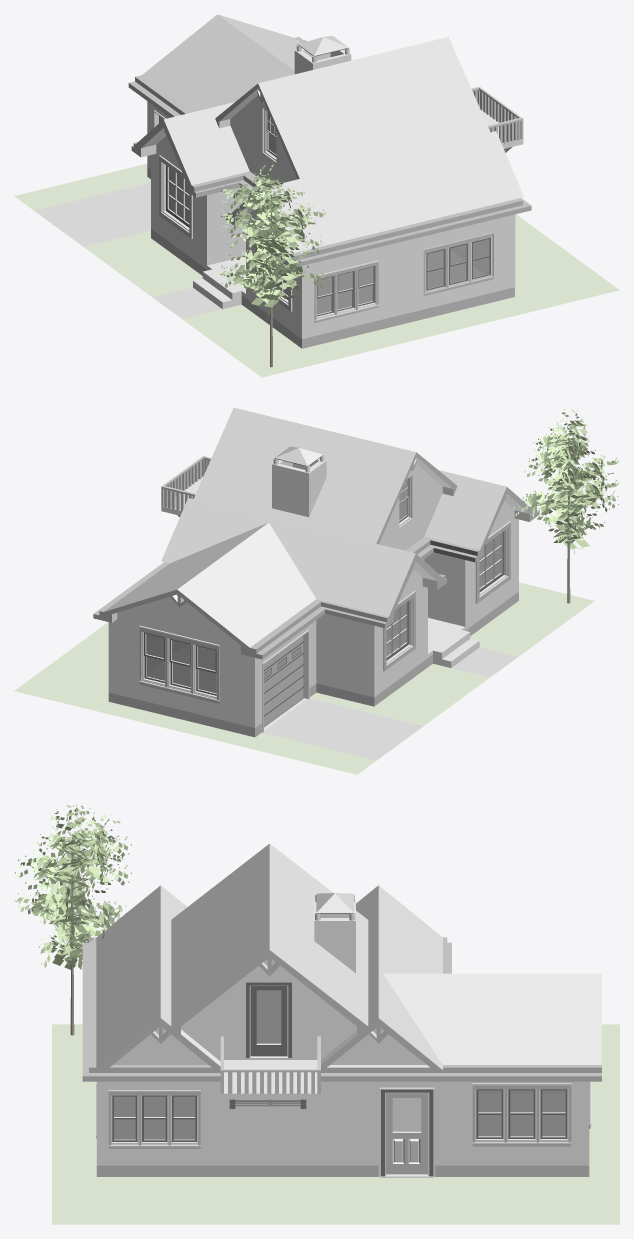
File: sp-prop-sf-1L-41ft.glb
3 views of the same model, one above another, from view 1: azimuth 30°, elevation 25°; view 2: azimuth 150°, elevation 25°; view 3: azimuth 270°, elevation 25° (orthographic). The views are drawn at different scales.
Visible parts, largest first — view 1: 3DGeom-5, 3DGeom-3, 3DGeom-2, 3DGeom-1, 3DGeom-7, 3DGeom-625, 3DGeom-11, 3DGeom-6; view 2: 3DGeom-1, 3DGeom-3, 3DGeom-2, 3DGeom-7, 3DGeom-625, 3DGeom-11, 3DGeom-6, 3DGeom-5; view 3: 3DGeom-3, 3DGeom-2, 3DGeom-1, 3DGeom-5, 3DGeom-7, 3DGeom-625, 3DGeom-11, 3DGeom-6.
Boxes of the visible parts, x1,y1,x2,y2 form: 3DGeom-5: (164,37,523,253); 3DGeom-3: (141,36,523,338); 3DGeom-2: (14,164,619,377); 3DGeom-1: (34,14,347,318); 3DGeom-7: (128,37,531,348); 3DGeom-625: (216,162,327,318); 3DGeom-11: (169,112,489,314); 3DGeom-6: (159,44,511,322); 3DGeom-1: (104,407,517,760); 3DGeom-3: (108,447,529,732); 3DGeom-2: (14,582,594,774); 3DGeom-7: (93,452,539,737); 3DGeom-625: (513,408,619,554); 3DGeom-11: (141,479,500,693); 3DGeom-6: (141,455,503,726); 3DGeom-5: (161,448,307,510); 3DGeom-3: (96,894,591,1177); 3DGeom-2: (52,1024,619,1224); 3DGeom-1: (160,844,601,1069); 3DGeom-5: (96,844,417,1161); 3DGeom-7: (82,937,601,1176); 3DGeom-625: (14,803,131,969); 3DGeom-11: (114,990,565,1139); 3DGeom-6: (96,913,590,1176).
Bounding box in the file's own units: 11.1 × 5.64 × 13.19.
